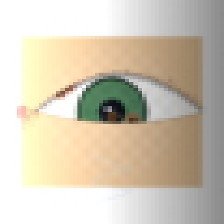foreign_body_visible: (47, 83, 72, 103)
